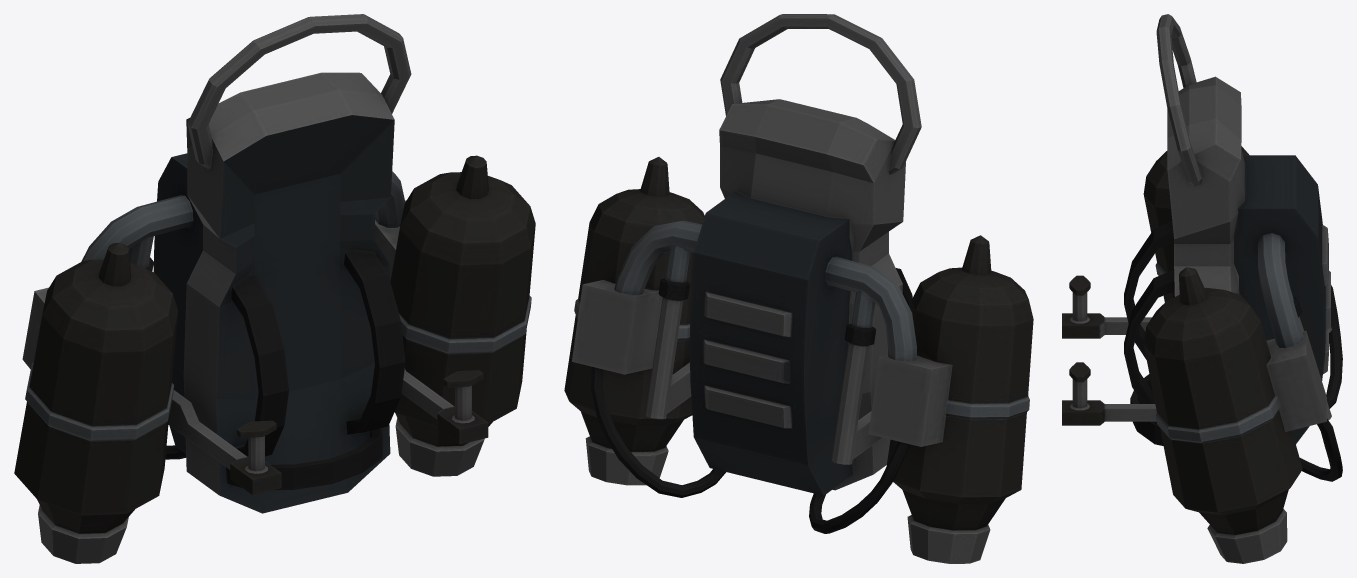
The model's file is outfit_jetpack.glb.
3 views of the same model, side by side, from view 1: azimuth 30°, elevation 25°; view 2: azimuth 150°, elevation 25°; view 3: azimuth 270°, elevation 25° (orthographic). The views are drawn at different scales.
Visible parts, largest first — view 1: outfit_jetpack; view 2: outfit_jetpack; view 3: outfit_jetpack.
Part boxes in pixels (x1=…): outfit_jetpack: x1=14, y1=14, x2=535, y2=563; outfit_jetpack: x1=564, y1=14, x2=1033, y2=563; outfit_jetpack: x1=1062, y1=14, x2=1342, y2=563.
Size of the model in its own units: 0.2892 by 0.3 by 0.1686.
Materials: 1 (1 with a texture image).
